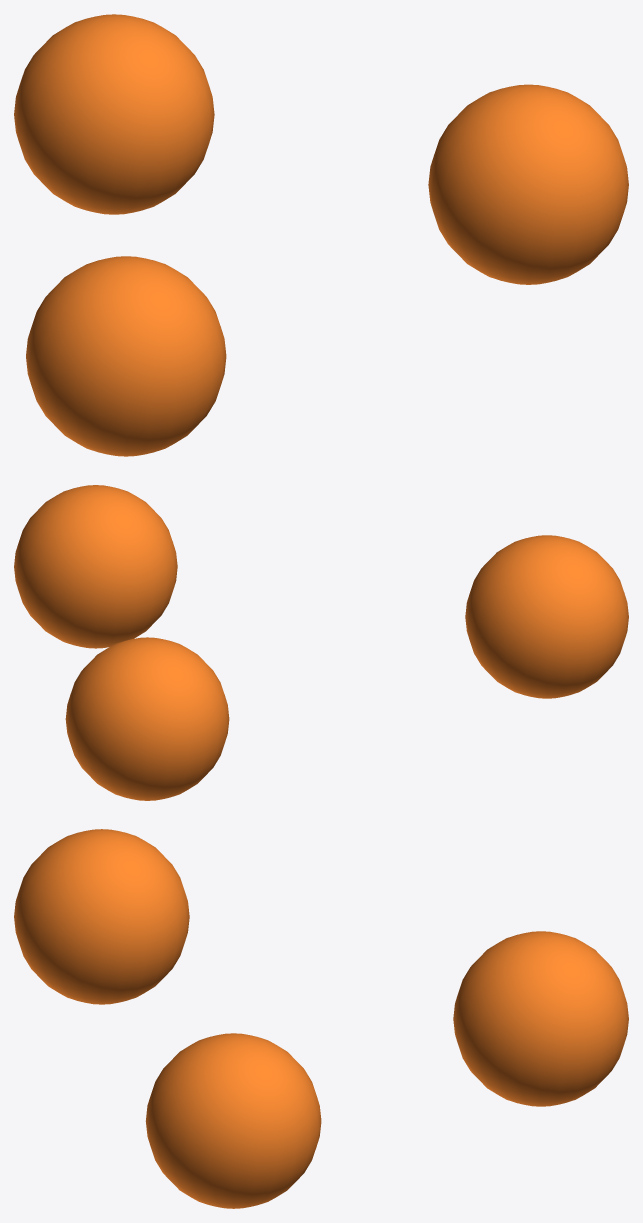
Rendered from equipamiento_pelotas.fbx.
The picture shows the model from 3 angles, top to bottom: view 1: azimuth 30°, elevation 25°; view 2: azimuth 150°, elevation 25°; view 3: azimuth 270°, elevation 25°; orthographic projection. The views are drawn at different scales.
Parts seen in each view (by area): view 1: Pelota_Repuesto_1, Pelota_Repuesto_3, Pelota_Repuesto_2; view 2: Pelota_Repuesto_1, Pelota_Repuesto_3, Pelota_Repuesto_2; view 3: Pelota_Repuesto_3, Pelota_Repuesto_1, Pelota_Repuesto_2.
Boxes of the visible parts, left/top/right/bottom form: Pelota_Repuesto_1: left=26, top=256, right=226, bottom=456; Pelota_Repuesto_3: left=14, top=14, right=214, bottom=214; Pelota_Repuesto_2: left=428, top=84, right=628, bottom=284; Pelota_Repuesto_1: left=465, top=535, right=628, bottom=698; Pelota_Repuesto_3: left=65, top=637, right=229, bottom=800; Pelota_Repuesto_2: left=14, top=485, right=177, bottom=648; Pelota_Repuesto_3: left=453, top=931, right=628, bottom=1106; Pelota_Repuesto_1: left=14, top=829, right=189, bottom=1004; Pelota_Repuesto_2: left=145, top=1033, right=321, bottom=1208.
Bounding box in the file's own units: 30 × 8 × 28.
